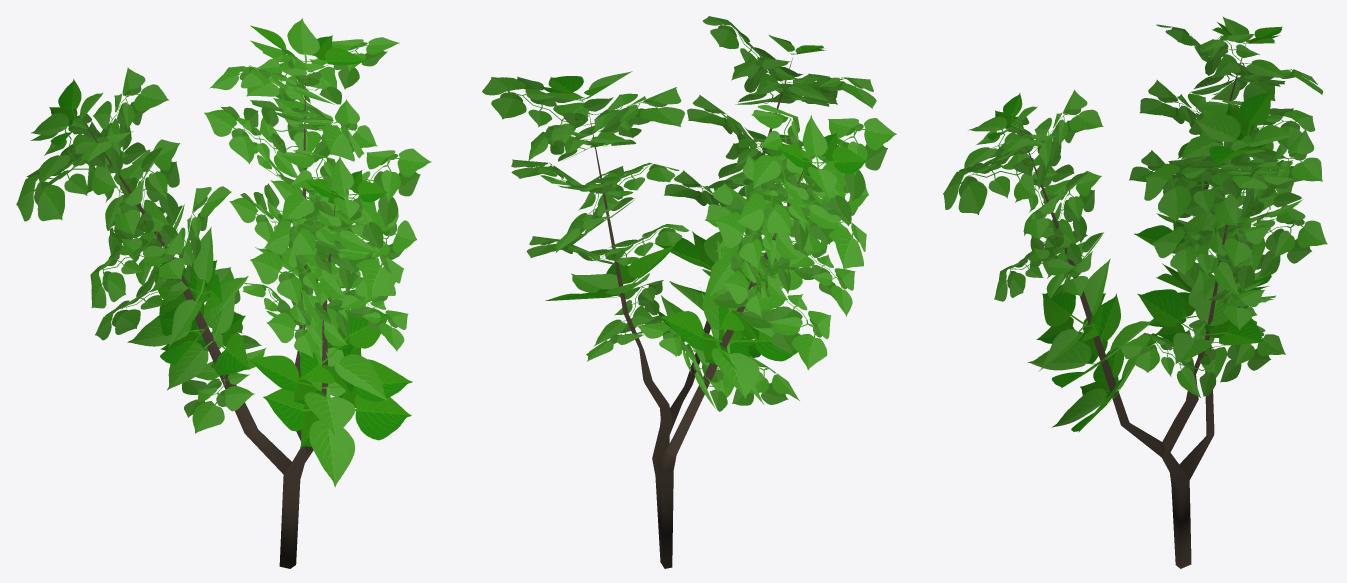
File: PT_Lilac_04.fbx
3 renders of one model, left to right at view 1: azimuth 30°, elevation 25°; view 2: azimuth 150°, elevation 25°; view 3: azimuth 270°, elevation 25°, orthographic. The views are drawn at different scales.
Parts seen in each view (by area): view 1: PT_Lilac_04_LOD0; view 2: PT_Lilac_04_LOD0; view 3: PT_Lilac_04_LOD0.
Part boxes in pixels (x1,y1,x2,y2): PT_Lilac_04_LOD0: (16, 18, 431, 568); PT_Lilac_04_LOD0: (482, 16, 896, 568); PT_Lilac_04_LOD0: (943, 17, 1327, 568).
Size of what is drawn, in the model's own units: 182 by 230 by 172.
